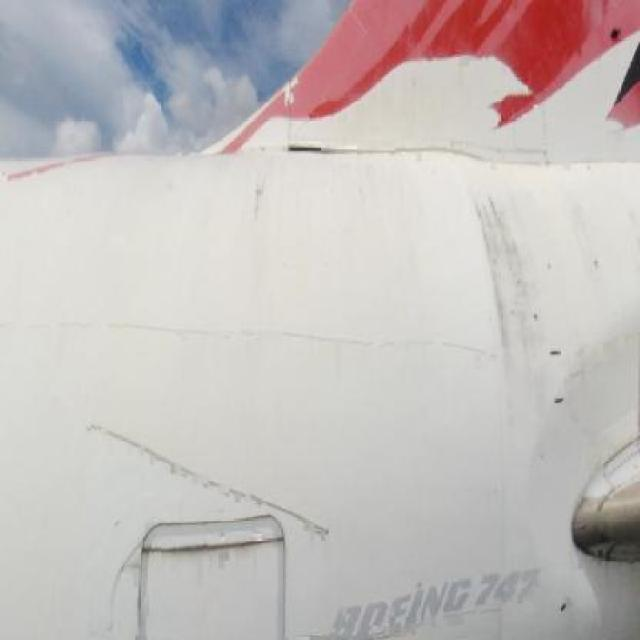Missing-Rivet: (604, 440, 640, 497), (600, 540, 640, 575)
Rust: (449, 160, 614, 471), (141, 525, 296, 586), (236, 148, 321, 242)
